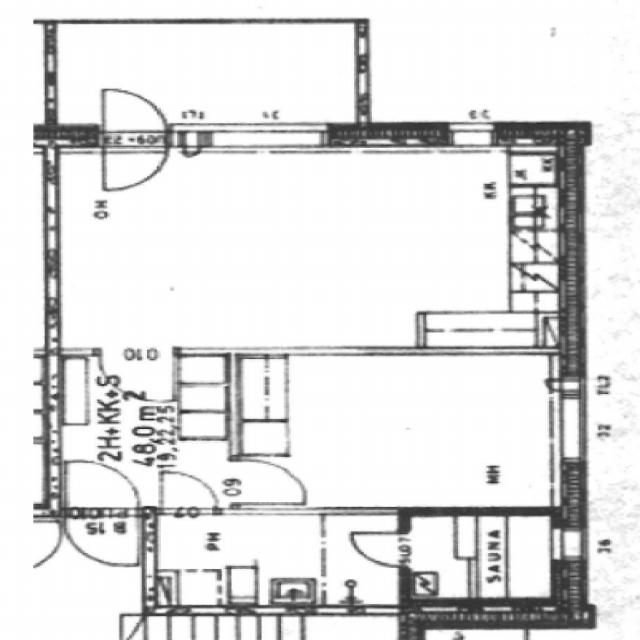door: (102, 124, 166, 190), (102, 81, 166, 147), (66, 456, 139, 513), (66, 506, 139, 562), (102, 346, 172, 403), (229, 461, 302, 503), (160, 467, 218, 514), (349, 532, 411, 566)
